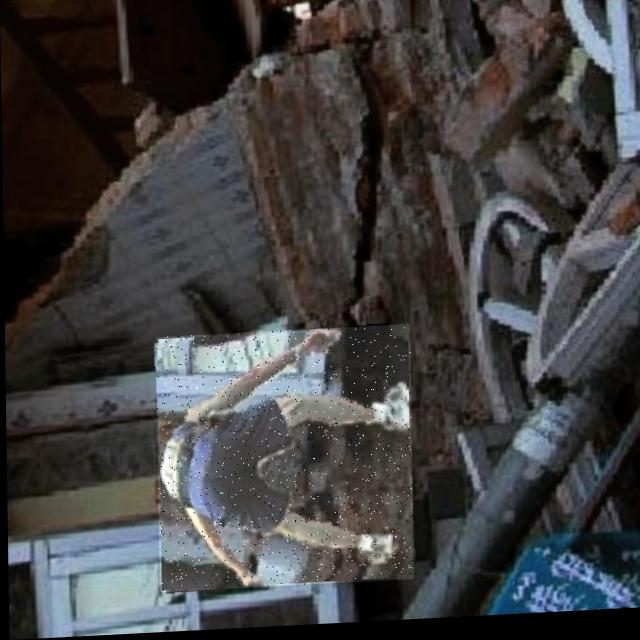Person in Rubble: (155, 327, 412, 593)
